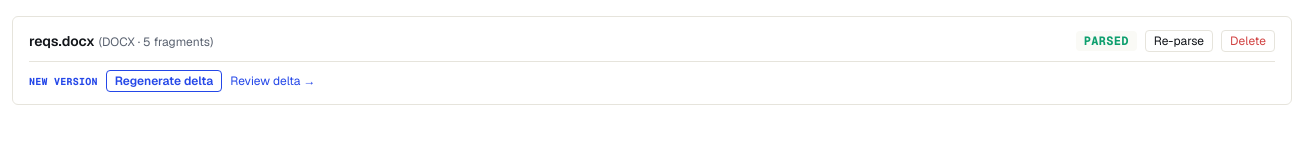
it: SourceList targeted regenerate › shows an error and does not navigate when the job fails
Click the button "Regenerate delta": coordinates (164, 81) [106, 70, 222, 92]
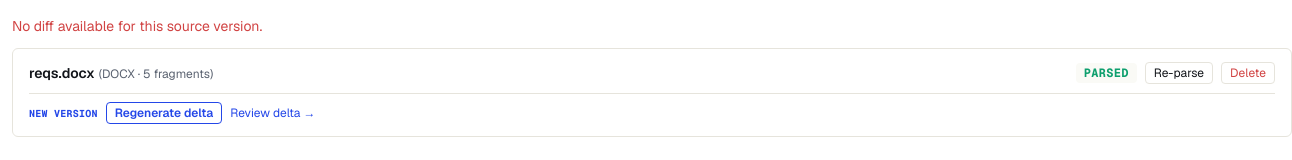
Now the text "No diff available for this source version." is shown, box [12, 17, 262, 35]
